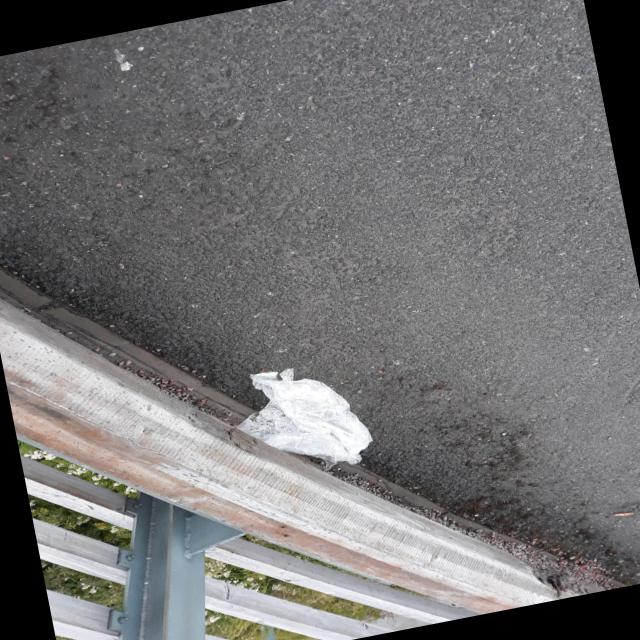less trash: (239, 369, 373, 464)
